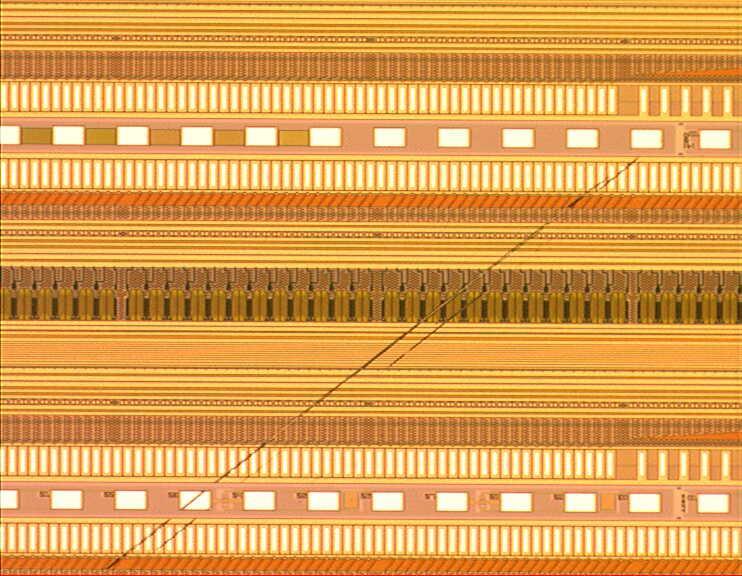SCRATCH: (100, 145, 657, 576)
